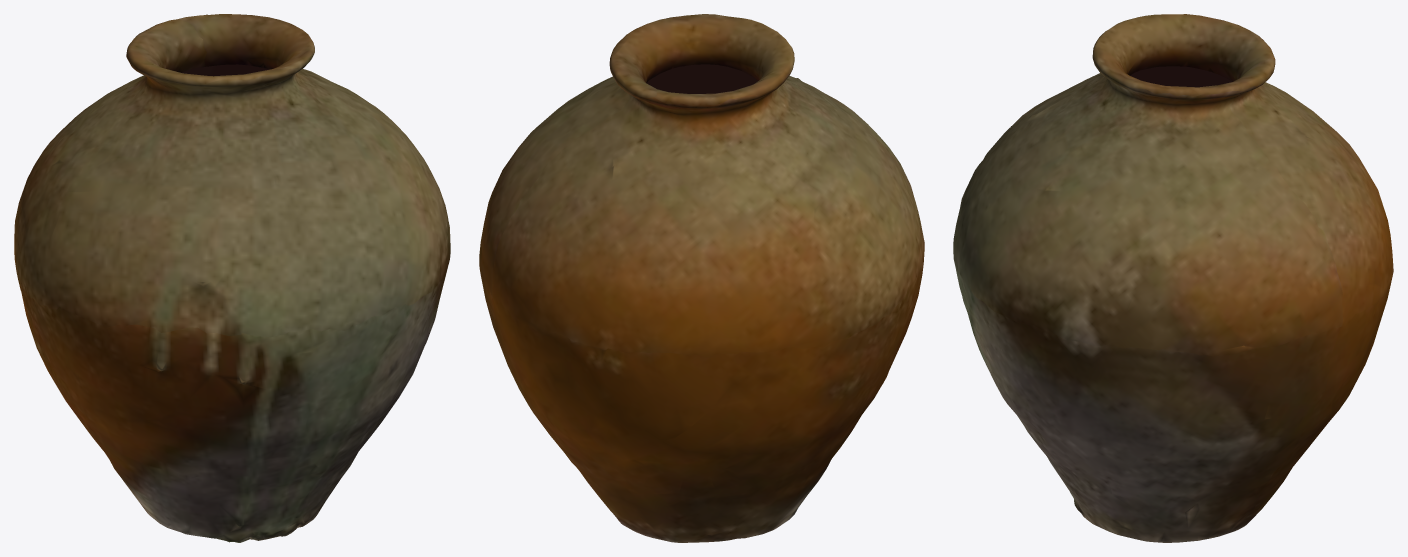
File: cma-tamba-storage-jar.lod1.glb
The picture shows the model from 3 angles, left to right: view 1: azimuth 30°, elevation 25°; view 2: azimuth 150°, elevation 25°; view 3: azimuth 270°, elevation 25°; orthographic projection.
Parts seen in each view (by area): view 1: 2002.66_storage_jar_tamba_ware; view 2: 2002.66_storage_jar_tamba_ware; view 3: 2002.66_storage_jar_tamba_ware.
Boxes of the visible parts, left/top/right/bottom form: 2002.66_storage_jar_tamba_ware: left=14, top=14, right=450, bottom=542; 2002.66_storage_jar_tamba_ware: left=479, top=14, right=924, bottom=542; 2002.66_storage_jar_tamba_ware: left=953, top=14, right=1393, bottom=542.
Size of the model in its own units: 0.3873 by 0.4497 by 0.3912.
Materials: 1 (1 with a texture image).
